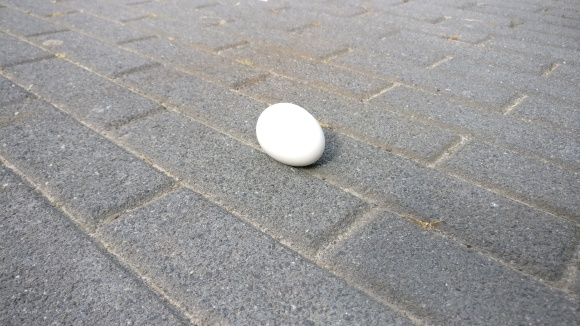egg: (255, 103, 327, 166)
